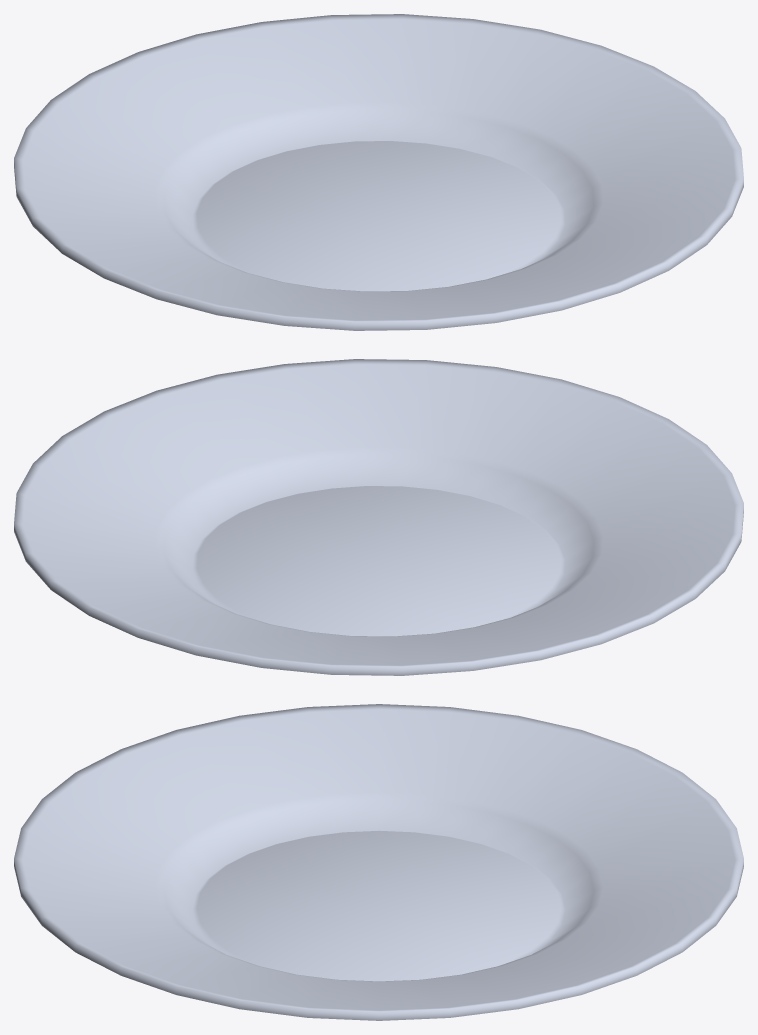
Rendered from Plate.glb.
3 views of the same model, one above another, from view 1: azimuth 30°, elevation 25°; view 2: azimuth 150°, elevation 25°; view 3: azimuth 270°, elevation 25° (orthographic).
Parts seen in each view (by area): view 1: huitugou_2062_440; view 2: huitugou_2062_440; view 3: huitugou_2062_440.
Part boxes in pixels (<box>): huitugou_2062_440: <box>14,14,743,330</box>; huitugou_2062_440: <box>14,359,743,675</box>; huitugou_2062_440: <box>14,704,743,1020</box>.
Size of the model in its own units: 0.2 by 0.0156 by 0.2.
